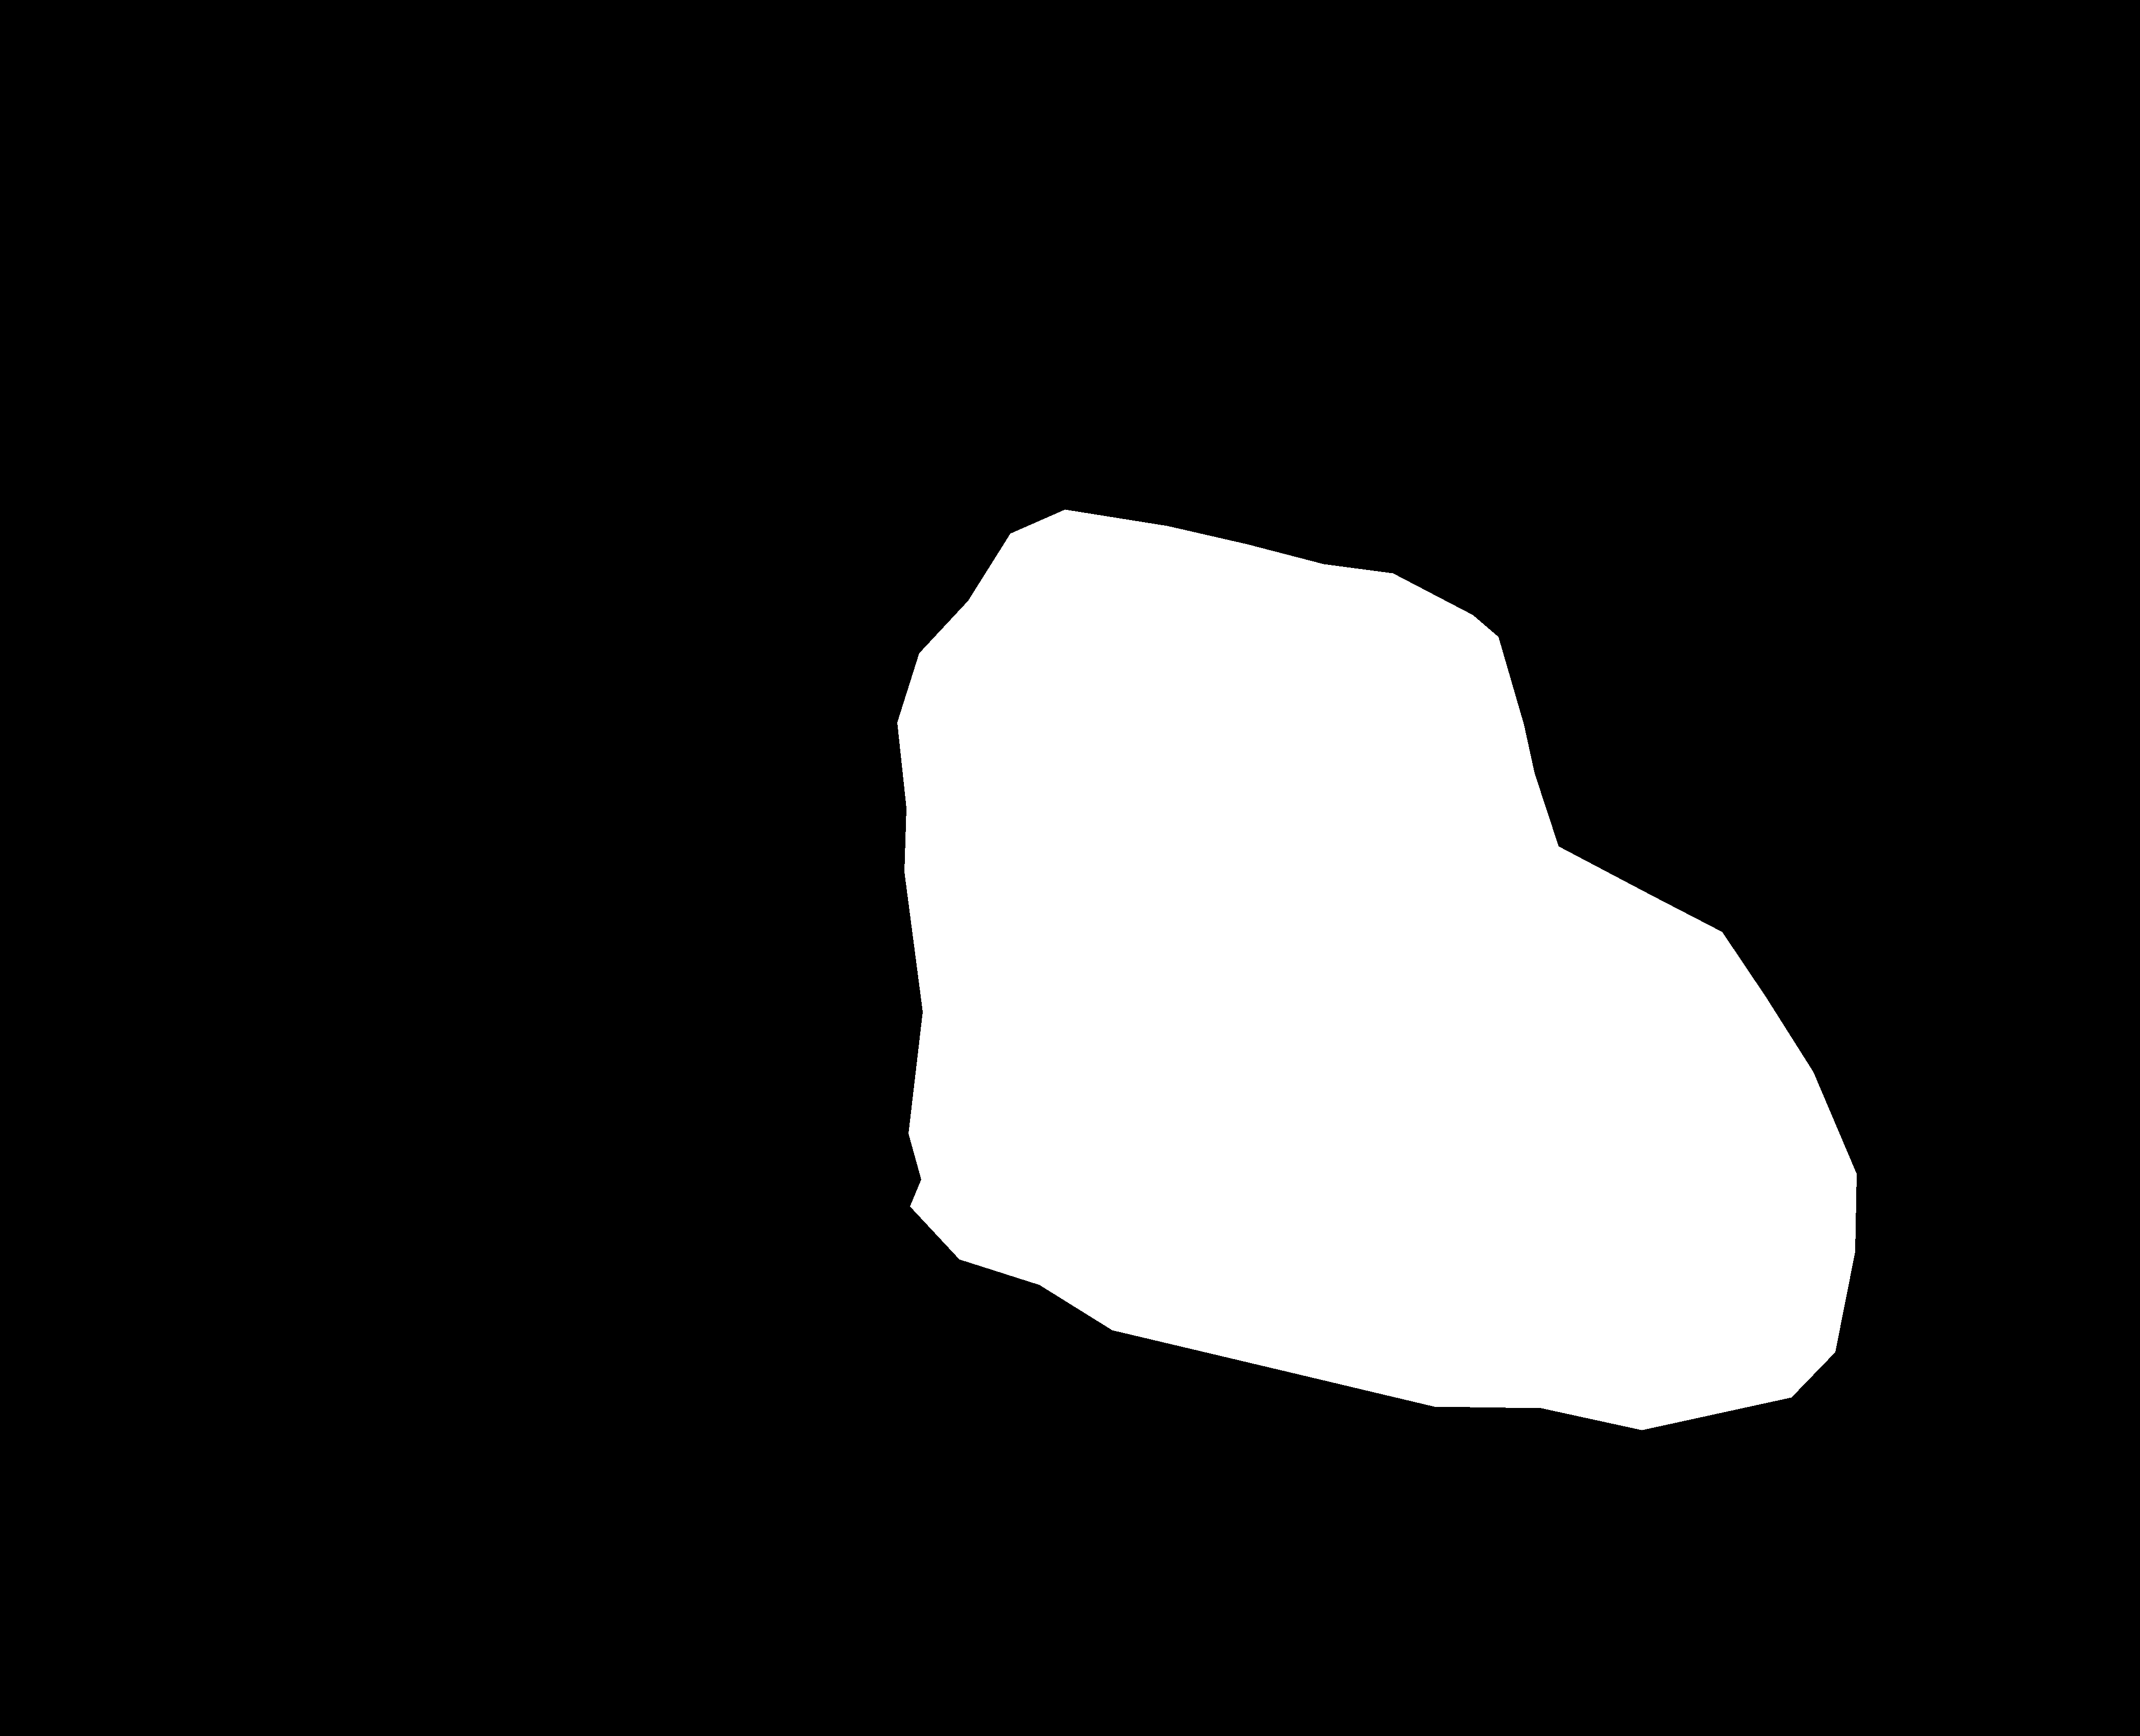heart: (896, 510, 1857, 1430)
left_lung: (384, 25, 1031, 1375)
right_lung: (1283, 35, 2037, 1352)
